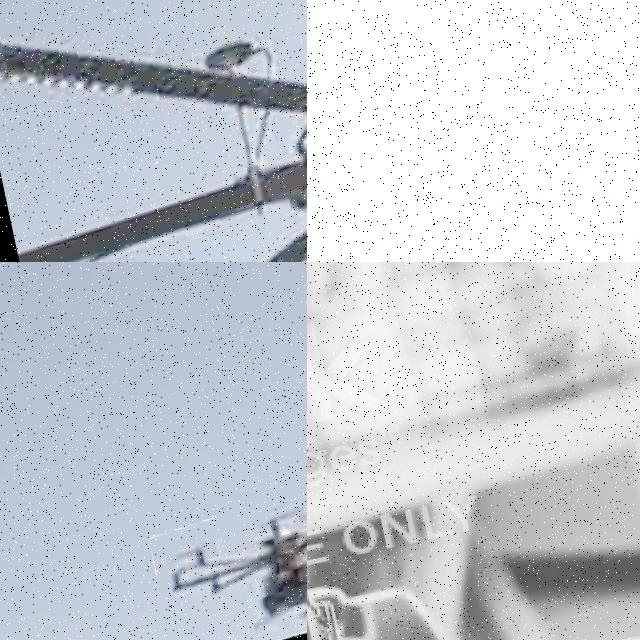drone: (0, 0, 307, 262), (307, 69, 640, 262), (147, 478, 307, 640)
